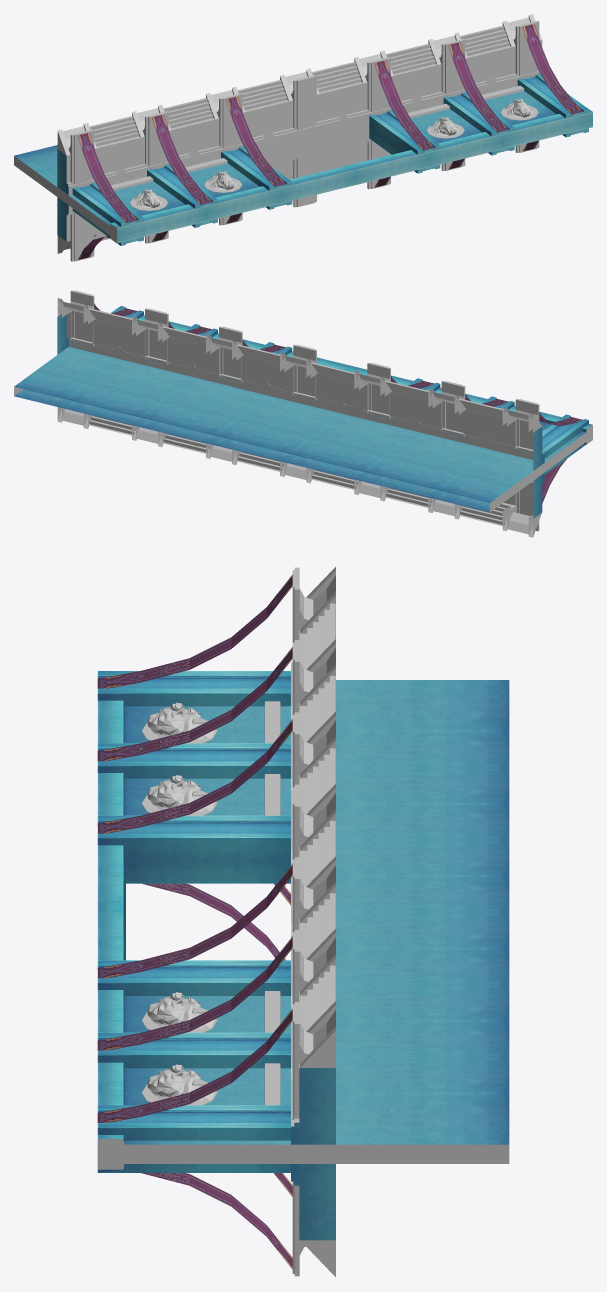
The model's file is huodong_fuben_660_qiangbi_men.obj.
The picture shows the model from 3 angles, top to bottom: view 1: azimuth 30°, elevation 25°; view 2: azimuth 150°, elevation 25°; view 3: azimuth 270°, elevation 25°; orthographic projection. The views are drawn at different scales.
Parts seen in each view (by area): view 1: huodong_fuben_660_qiangbi_men; view 2: huodong_fuben_660_qiangbi_men; view 3: huodong_fuben_660_qiangbi_men.
Part boxes in pixels (left/top/right/bottom): huodong_fuben_660_qiangbi_men: left=14, top=14, right=592, bottom=261; huodong_fuben_660_qiangbi_men: left=14, top=290, right=592, bottom=537; huodong_fuben_660_qiangbi_men: left=97, top=567, right=509, bottom=1276.
Bounding box in the file's own units: 3224 × 817 × 1207.
